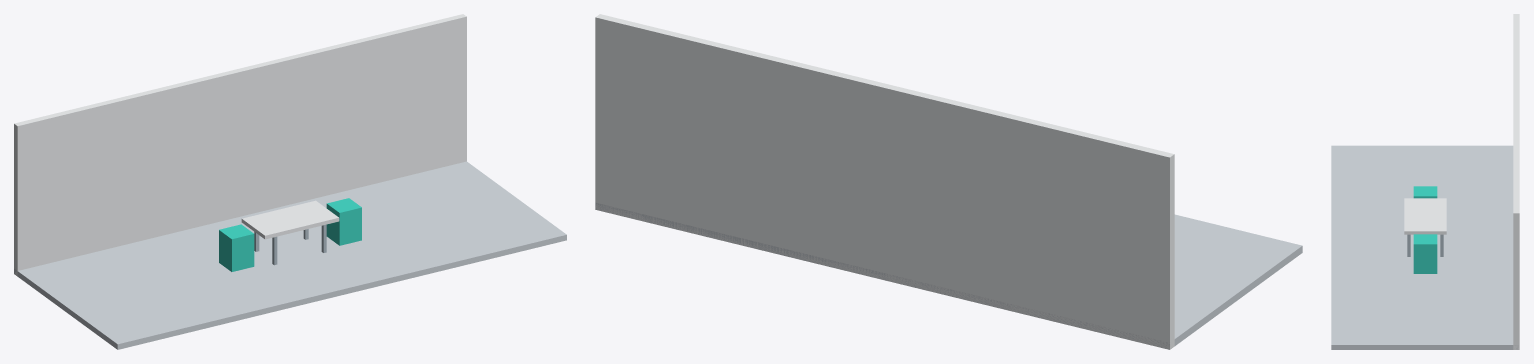
The picture shows the model from 3 angles, left to right: view 1: azimuth 30°, elevation 25°; view 2: azimuth 150°, elevation 25°; view 3: azimuth 270°, elevation 25°; orthographic projection. The views are drawn at different scales.
Parts seen in each view (by area): view 1: Exhibition Booth Concept; view 2: Exhibition Booth Concept; view 3: Exhibition Booth Concept.
Part boxes in pixels (box(x1,y1,x2,y2)): Exhibition Booth Concept: box(14, 14, 566, 349); Exhibition Booth Concept: box(595, 14, 1302, 349); Exhibition Booth Concept: box(1331, 14, 1519, 349).
Size of the model in its own units: 10 by 3.2 by 4.
